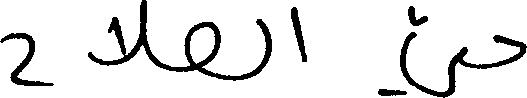ا: (290, 5, 306, 63)
ح: (0, 30, 52, 86), (492, 32, 525, 67)
ص: (184, 19, 219, 79)
ل: (254, 17, 270, 77)
لا: (87, 0, 145, 66)
ي: (400, 3, 461, 96)
